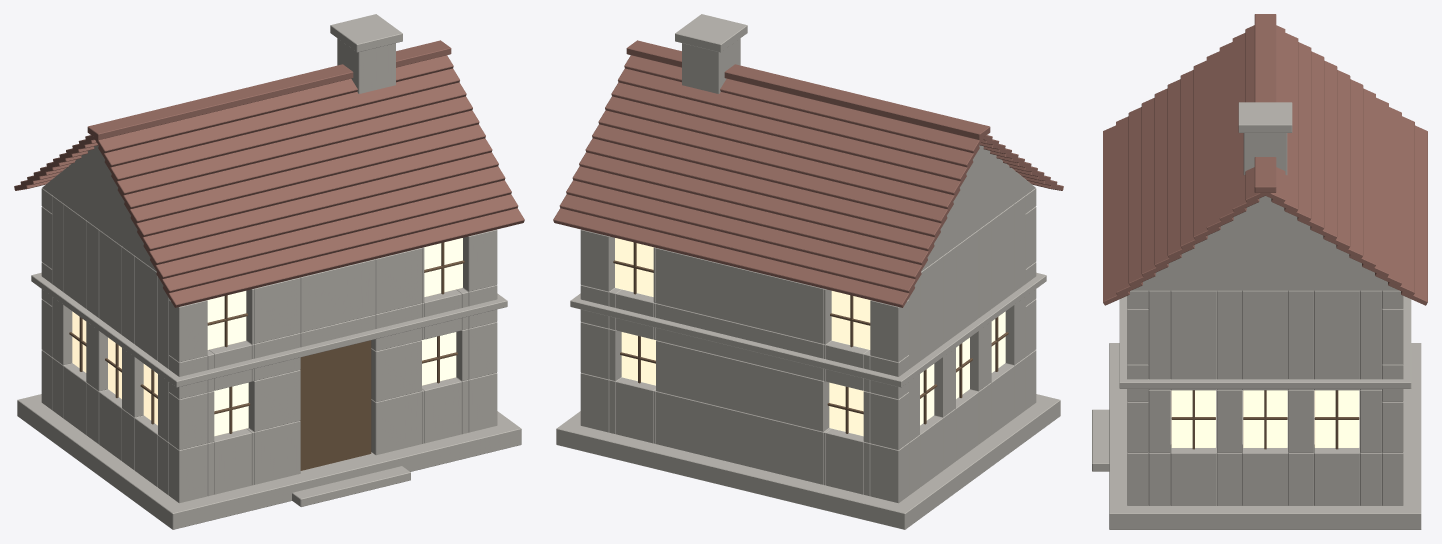
File: stone-guildhall.glb
3 views of the same model, side by side, from view 1: azimuth 30°, elevation 25°; view 2: azimuth 150°, elevation 25°; view 3: azimuth 270°, elevation 25° (orthographic).
Parts seen in each view (by area): view 1: stone-guildhall; view 2: stone-guildhall; view 3: stone-guildhall.
Boxes of the visible parts, bbox=[...] form: stone-guildhall: bbox=[14, 14, 524, 529]; stone-guildhall: bbox=[553, 14, 1063, 529]; stone-guildhall: bbox=[1092, 14, 1427, 529].
Bounding box in the file's own units: 8 × 8.17 × 6.57.
